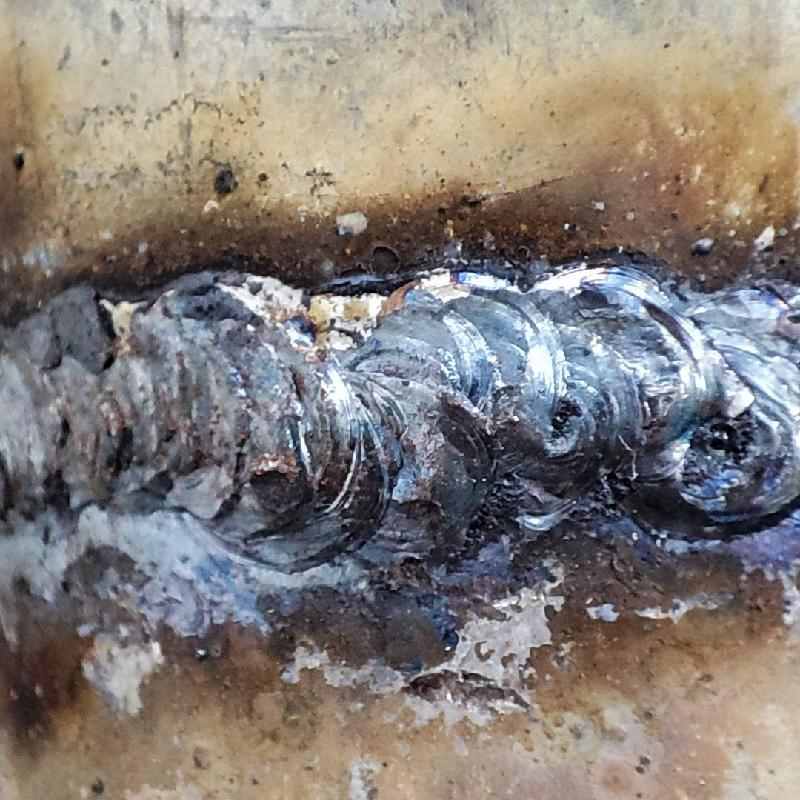Surface_pores: (689, 410, 767, 476), (534, 395, 588, 454)
good: (1, 277, 799, 562)
